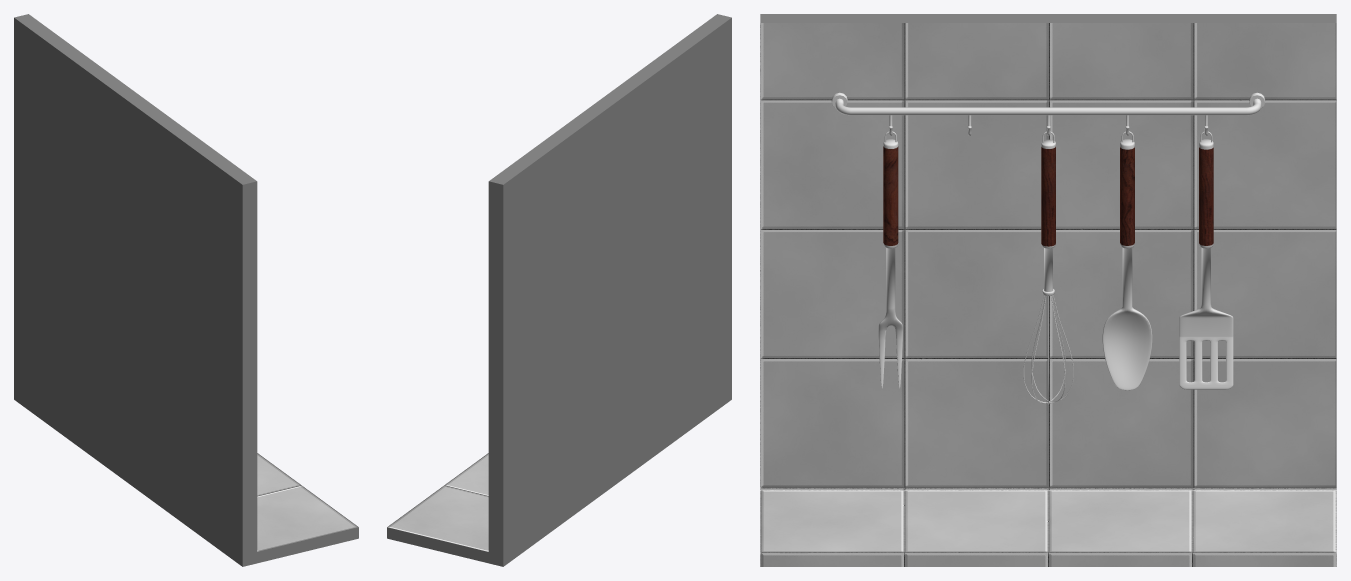
File: tool.glb
3 views of the same model, side by side, from view 1: azimuth 30°, elevation 25°; view 2: azimuth 150°, elevation 25°; view 3: azimuth 270°, elevation 25° (orthographic). The views are drawn at different scales.
Visible parts, largest first — view 1: Wall_1; view 2: Wall_1; view 3: Wall_1, kitchen tools_0.
Boxes of the visible parts, x1,y1,x2,y2 form: Wall_1: (14, 14, 358, 566); Wall_1: (387, 14, 731, 566); Wall_1: (760, 14, 1336, 566); kitchen tools_0: (831, 92, 1265, 404).
Size of the model in its own units: 0.2938 by 0.9222 by 1.
5 materials, 2 textured.
